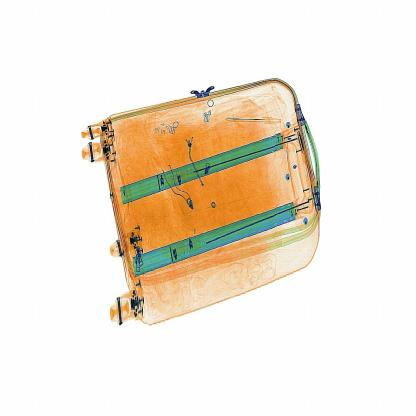wrench: (217, 107, 296, 130)
